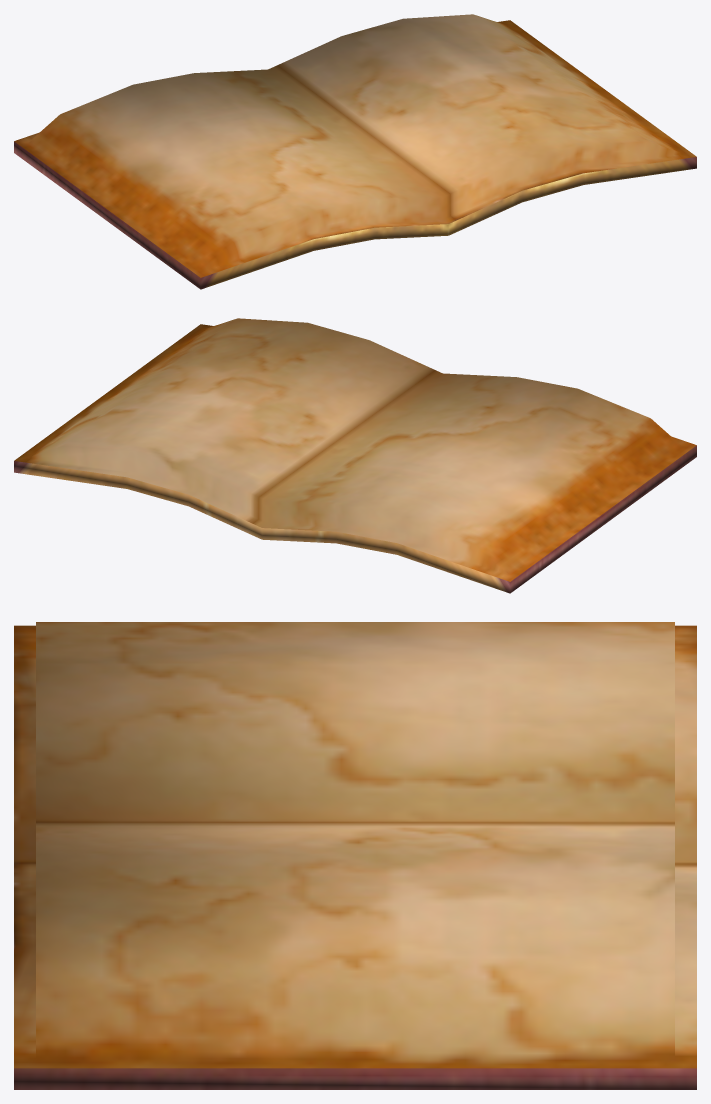
File: openbook.obj
3 renders of one model, top to bottom at view 1: azimuth 30°, elevation 25°; view 2: azimuth 150°, elevation 25°; view 3: azimuth 270°, elevation 25°, orthographic. The views are drawn at different scales.
Parts seen in each view (by area): view 1: openbook; view 2: openbook; view 3: openbook.
Boxes of the visible parts, left/top/right/bottom form: openbook: left=14, top=14, right=696, bottom=289; openbook: left=14, top=318, right=696, bottom=593; openbook: left=14, top=622, right=696, bottom=1089.
Bounding box in the file's own units: 0.4697 × 0.0468 × 0.3062.
Materials: 1 (1 with a texture image).
